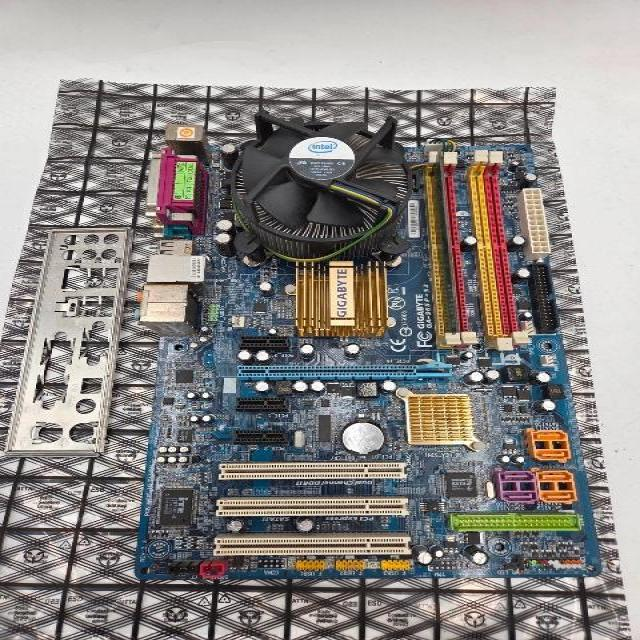CPU_Fan: (225, 110, 415, 264)
